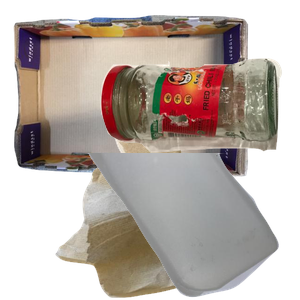cardboard: (11, 13, 251, 182)
glass: (98, 56, 300, 201)
plastic: (84, 153, 300, 300)
trash: (53, 121, 239, 300)
